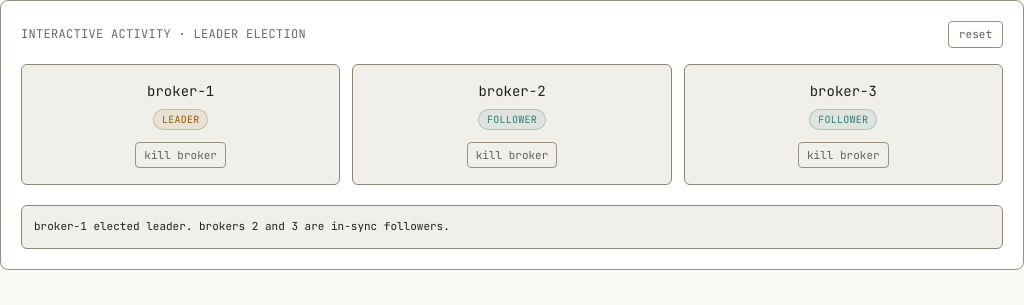
Test case: LeaderElectionDemo › drops a failed follower out of the ISR without re-electing
The width and height of the screenshot is (1024, 305).
Click the 2nd button "kill broker": (512, 155) [467, 142, 557, 168]
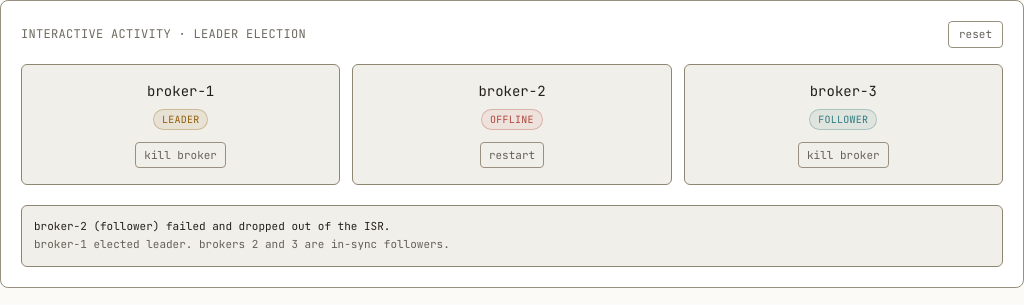
Expected: the text "broker-2 (follower) failed and dropped out of the ISR." is shown, [34, 219, 390, 233]
